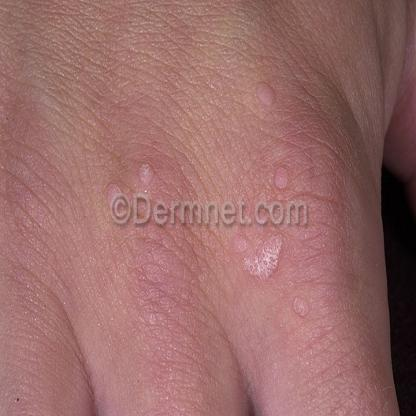Warts: (252, 74, 280, 123), (290, 281, 312, 330), (136, 153, 158, 192), (272, 152, 291, 197)
